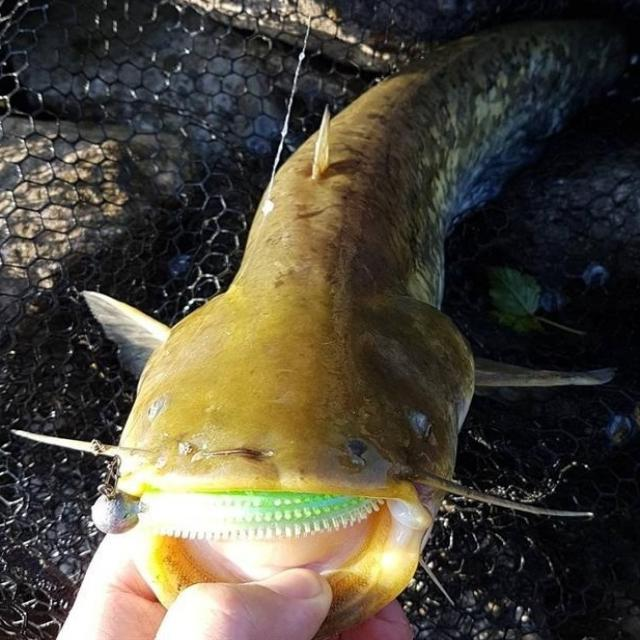Catfish: (44, 29, 591, 638)
